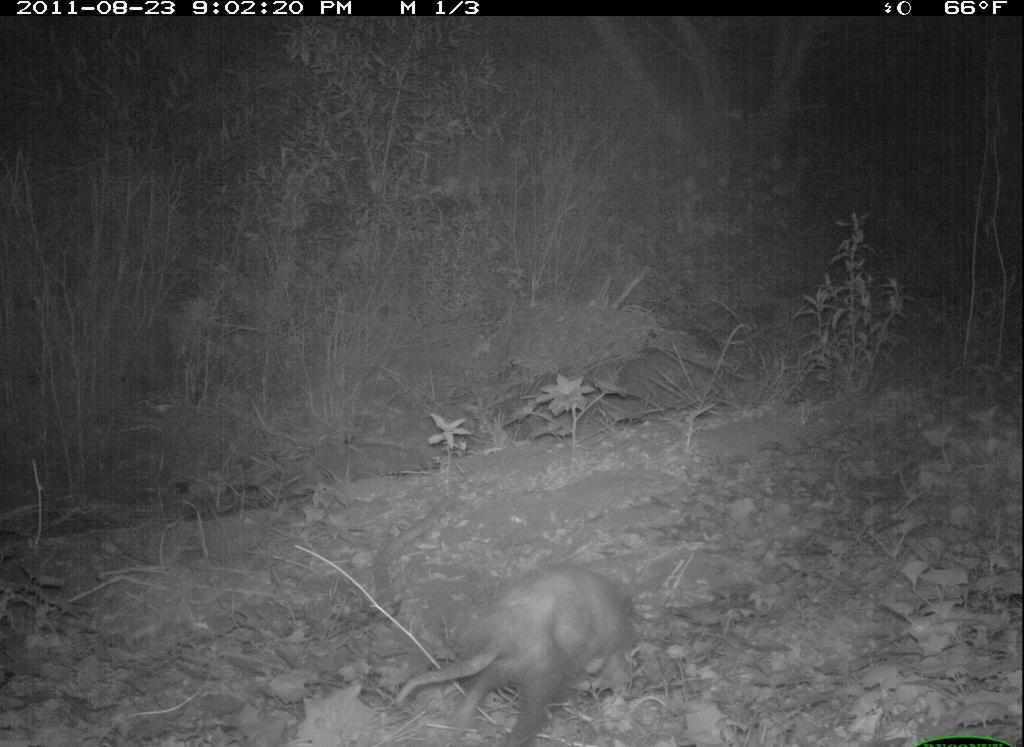opossum: (396, 557, 641, 738)
